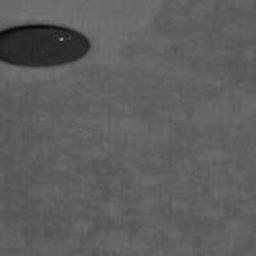Punching: (0, 24, 91, 69)
